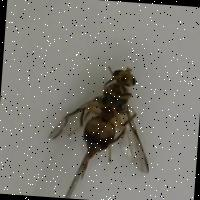Oriental-fruit-fly: (36, 53, 168, 190)
